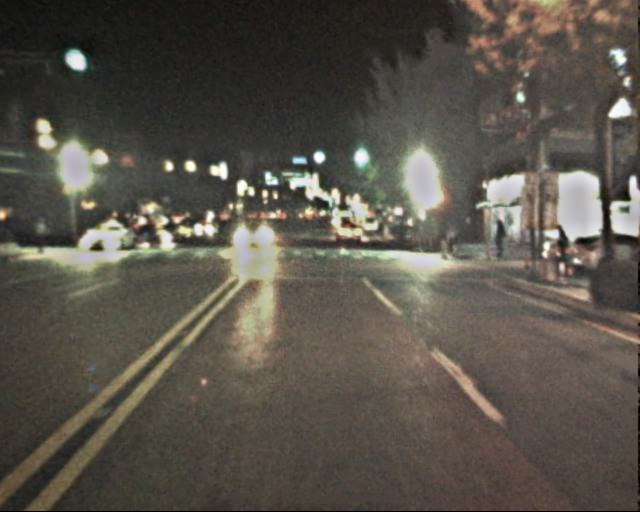person: (547, 222, 575, 285), (490, 219, 509, 265), (445, 222, 461, 262)
